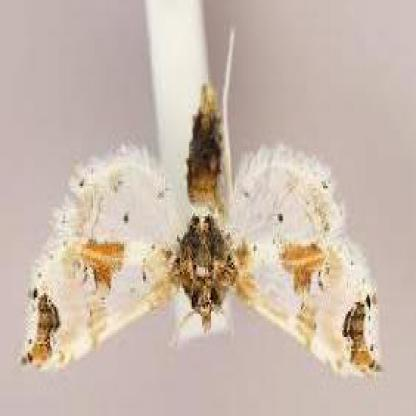leucinodes: (18, 86, 386, 381)
